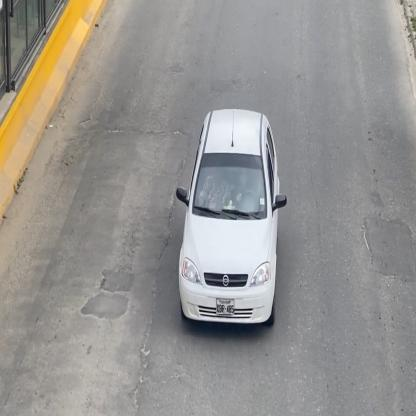Placa: (215, 300, 236, 318)
